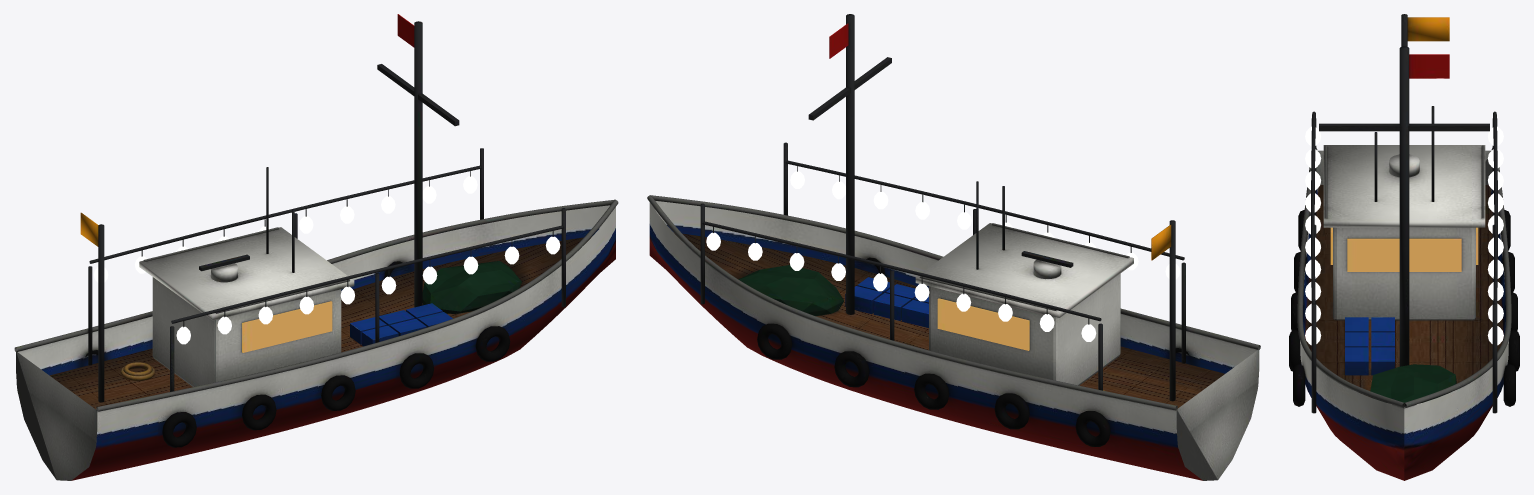
The model's file is boat.glb.
3 views of the same model, side by side, from view 1: azimuth 30°, elevation 25°; view 2: azimuth 150°, elevation 25°; view 3: azimuth 270°, elevation 25° (orthographic). The views are drawn at different scales.
Visible parts, largest first — view 1: boat; view 2: boat; view 3: boat.
Part boxes in pixels (left/top/right/bottom): boat: left=14, top=14, right=618, bottom=480; boat: left=647, top=14, right=1260, bottom=480; boat: left=1289, top=14, right=1519, bottom=480.
Size of the model in its own units: 15.04 by 9.48 by 4.85.
1 material, 1 textured.
